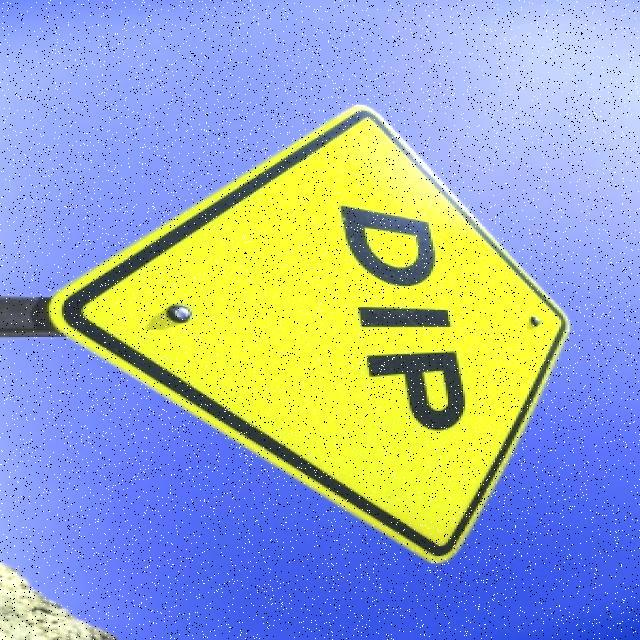Traffic sign: (37, 99, 573, 574)
